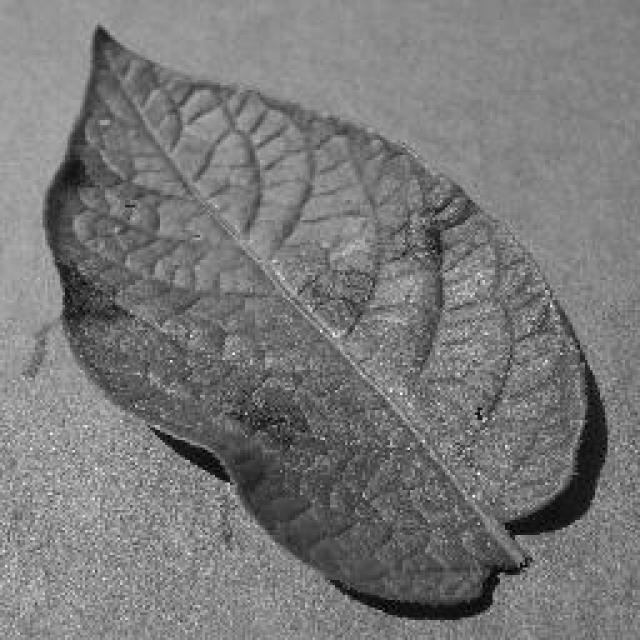Potato: (40, 20, 592, 615)
